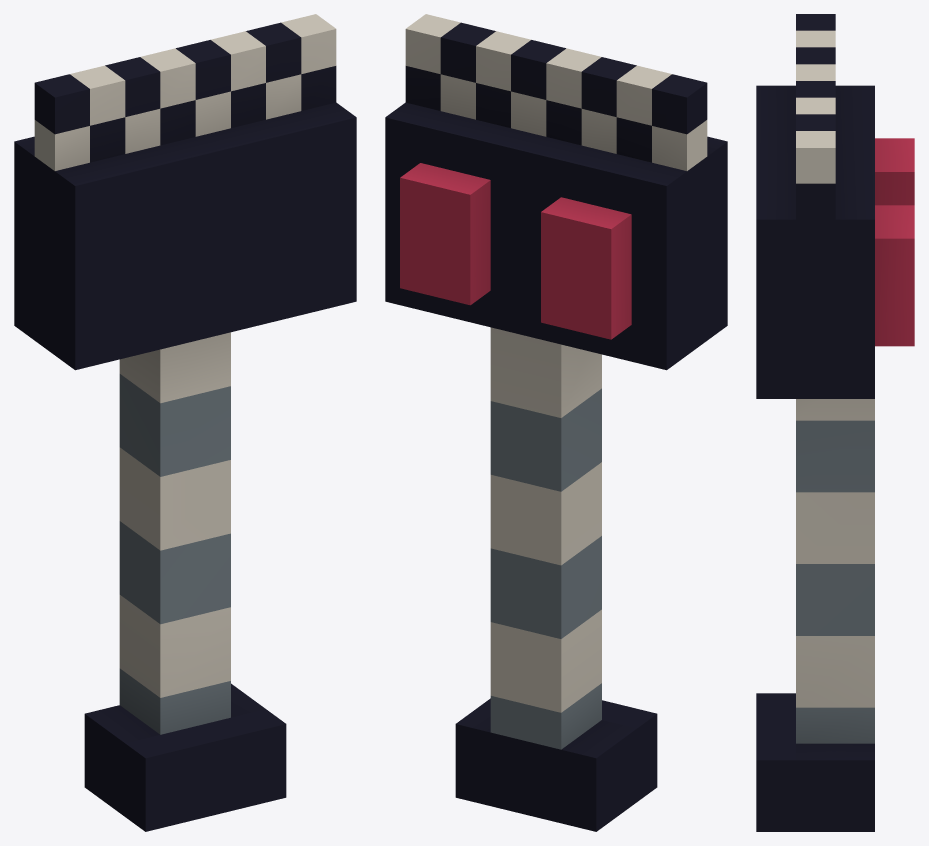
The model's file is rail_post.glb.
3 views of the same model, side by side, from view 1: azimuth 30°, elevation 25°; view 2: azimuth 150°, elevation 25°; view 3: azimuth 270°, elevation 25° (orthographic). The views are drawn at different scales.
Visible parts, largest first — view 1: rail_post_body; view 2: rail_post_body, rail_post_lamp_right, rail_post_lamp_left; view 3: rail_post_body, rail_post_lamp_right, rail_post_lamp_left.
Part boxes in pixels (x1,y1,x2,y2): rail_post_body: [14, 14, 356, 831]; rail_post_body: [385, 14, 727, 831]; rail_post_lamp_right: [400, 163, 490, 305]; rail_post_lamp_left: [541, 197, 631, 339]; rail_post_body: [756, 14, 874, 831]; rail_post_lamp_right: [875, 205, 914, 346]; rail_post_lamp_left: [875, 138, 914, 205].
Size of the model in its own units: 0.6667 by 1.67 by 0.3333.
